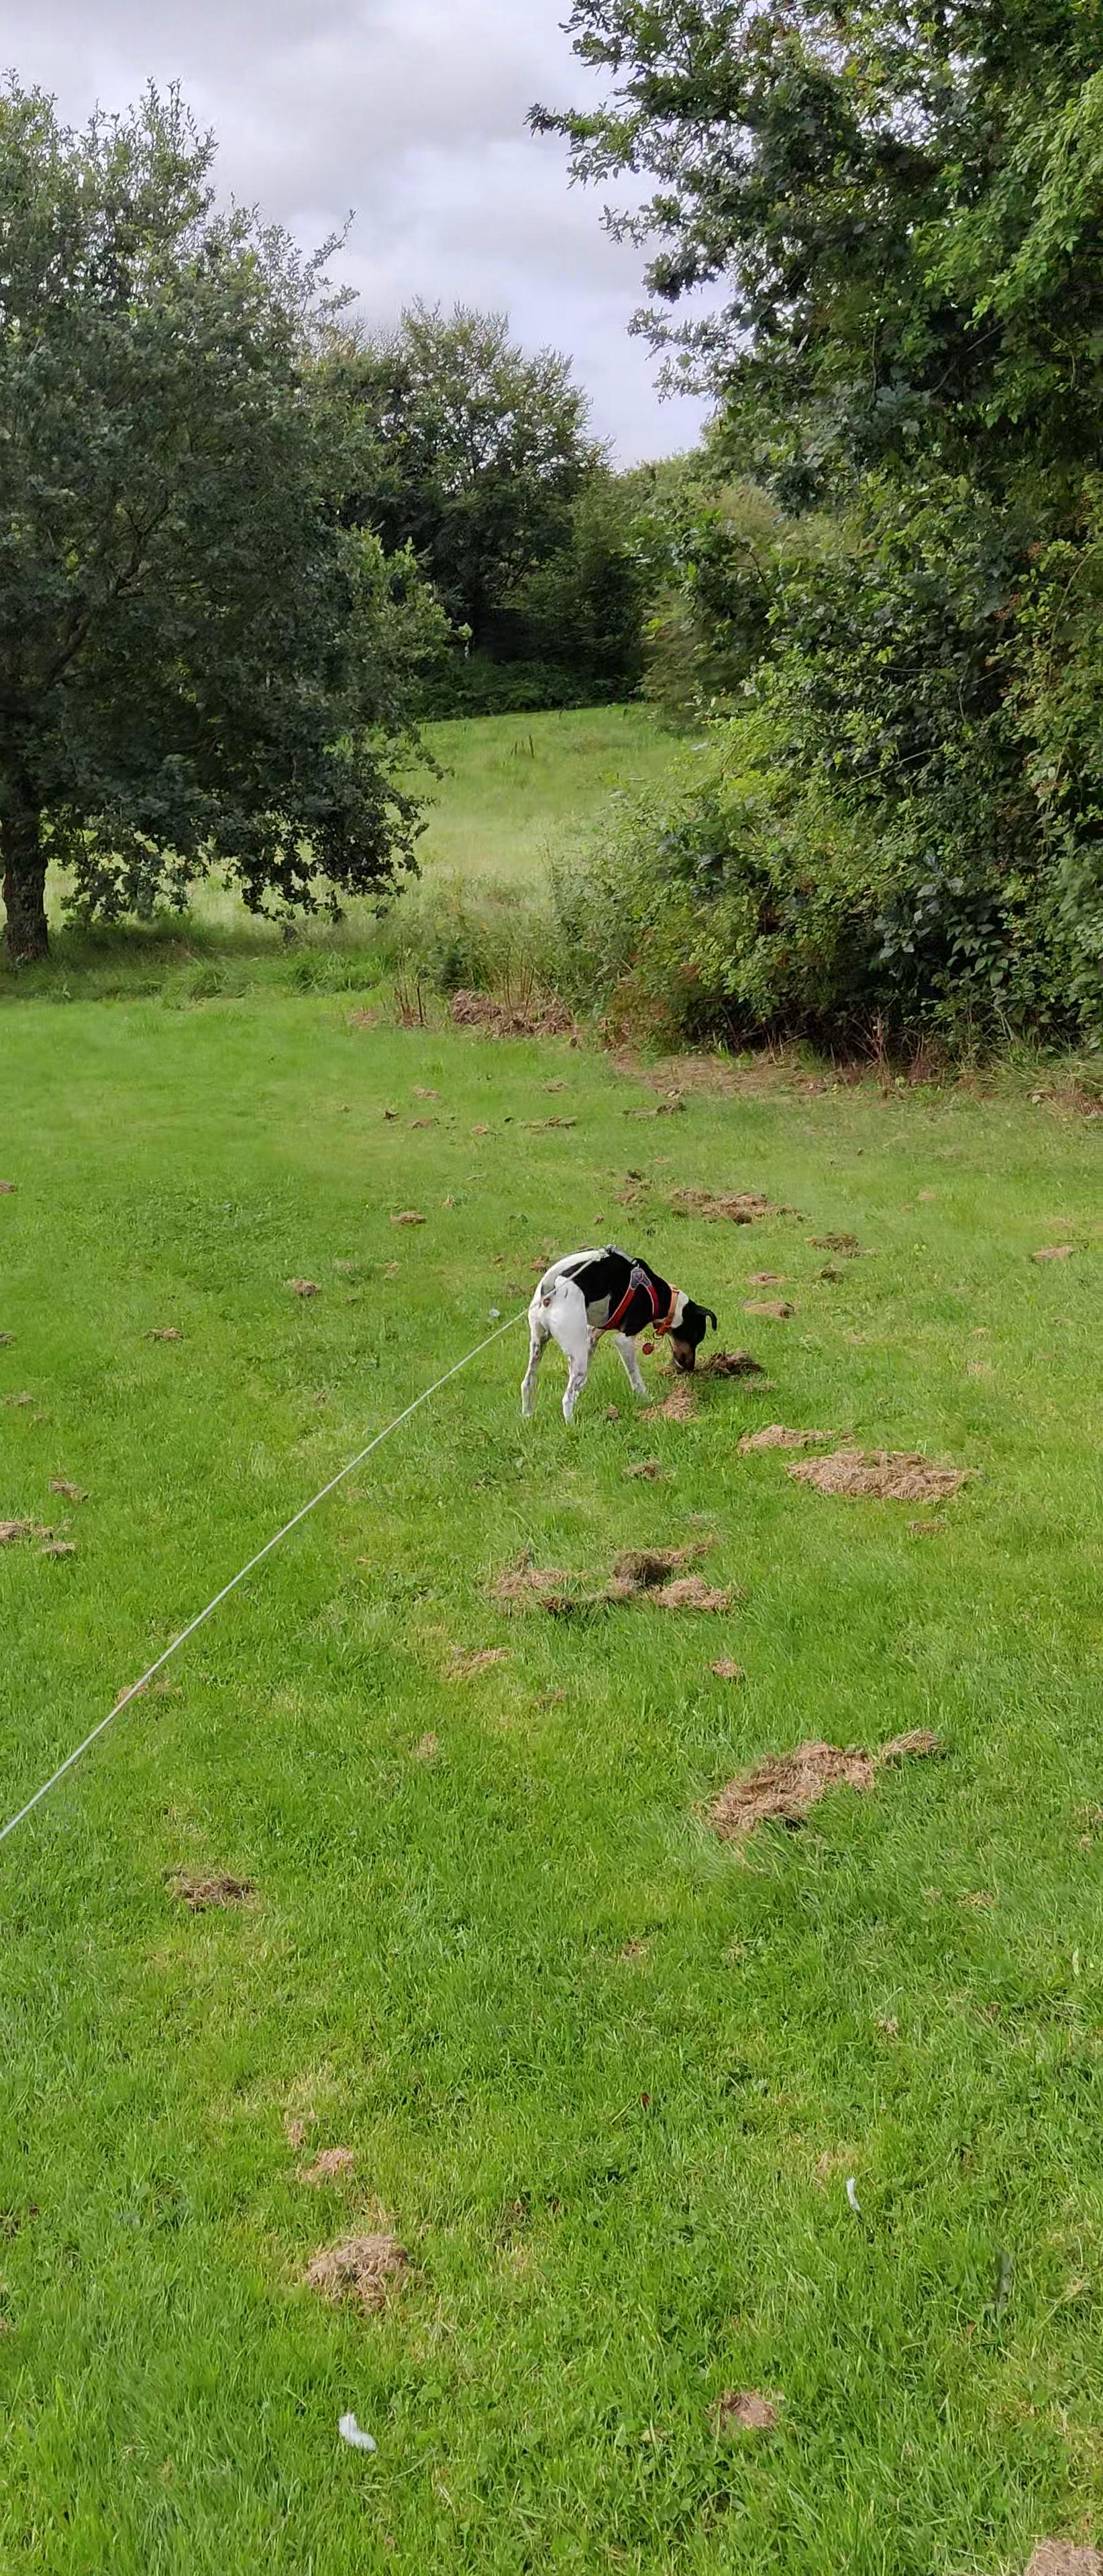Dog: (506, 1232, 723, 1437)
